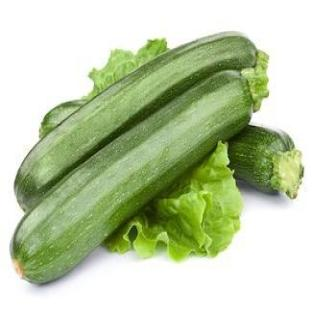Zucchini: (11, 71, 255, 283), (15, 33, 259, 209), (229, 125, 303, 197), (40, 100, 87, 139)
